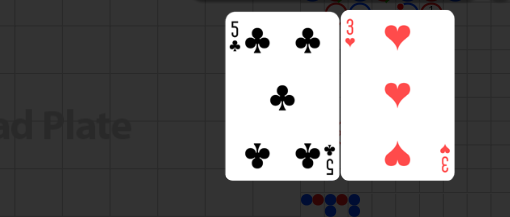3H: (438, 142, 451, 174)
5C: (227, 20, 242, 54)
